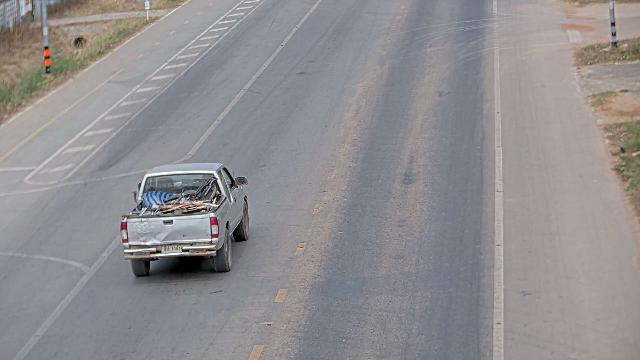pickup-truck: (119, 161, 250, 277)
